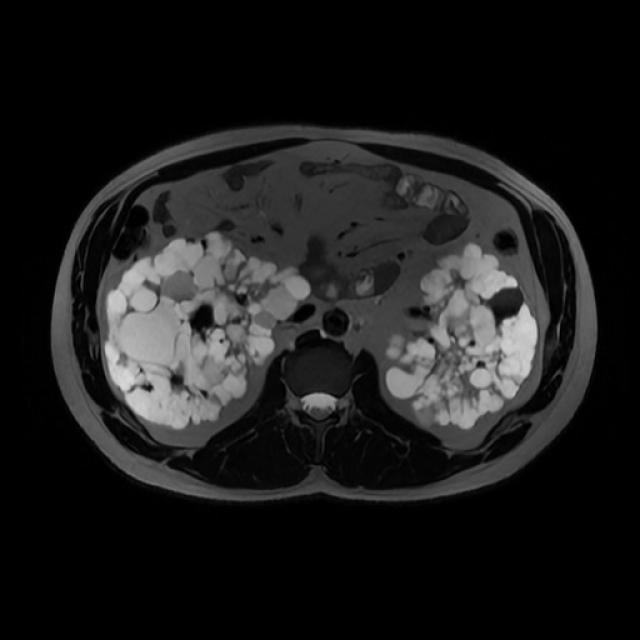sag: (104, 230, 312, 432)
sol: (383, 241, 540, 431)
